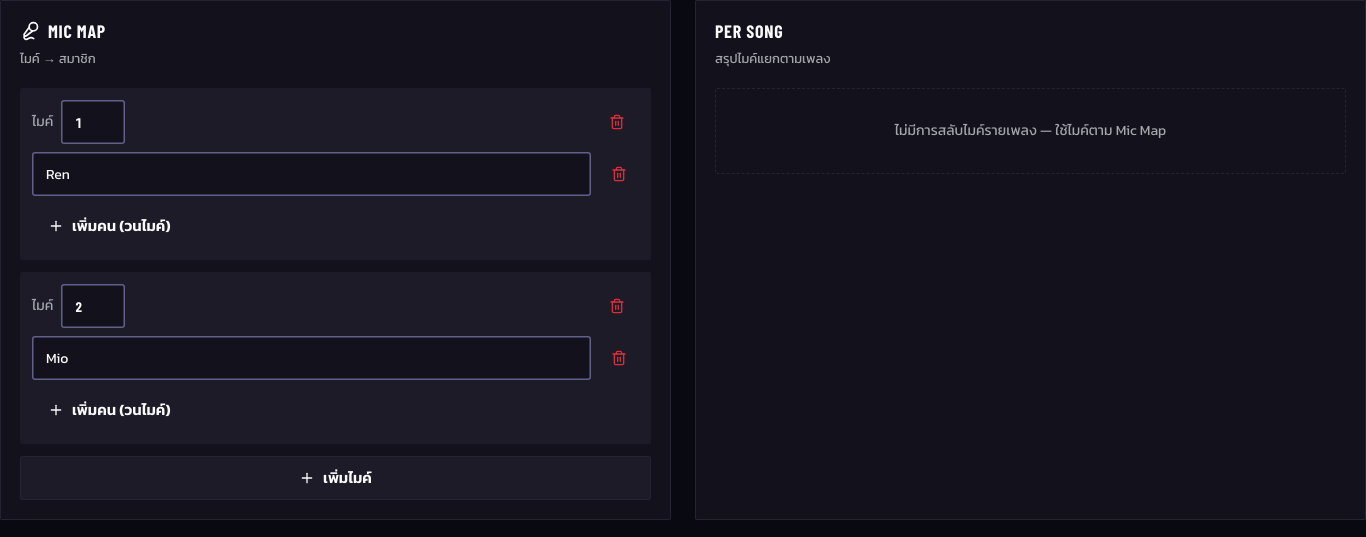
Test: desktop Mic Map vs a server that is up and answering badly › a 403 is still a real rejection - never queued
Step 1. Replace the text in the field named "ผู้ถือไมค์ 1" with "Ren (กีตาร์)" → coordinates (311, 174), box [32, 152, 591, 196]
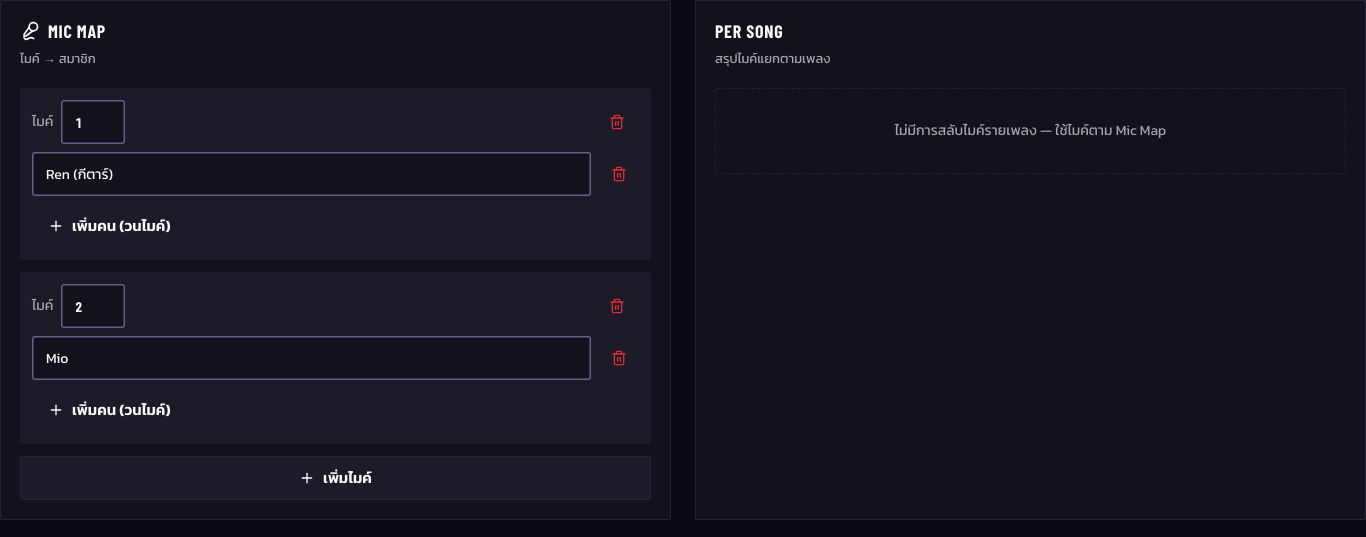
Step 2. Leave the field named "ผู้ถือไมค์ 1", box [32, 152, 591, 196]
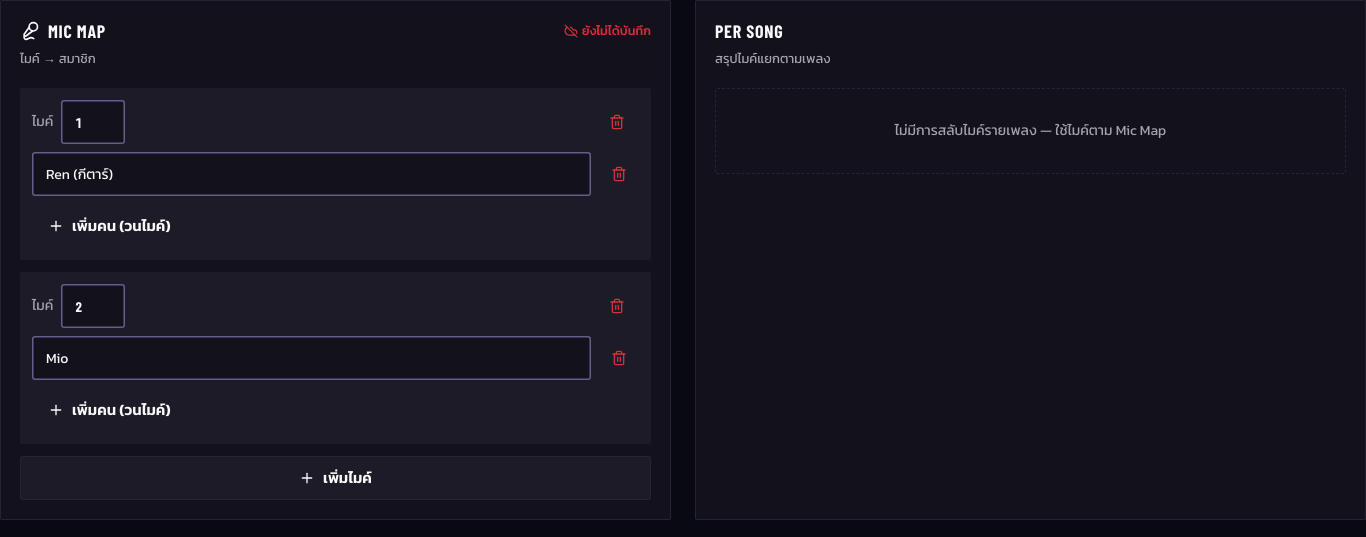
Now the text "ยังไม่ได้บันทึก" is shown, box [564, 23, 651, 39]
